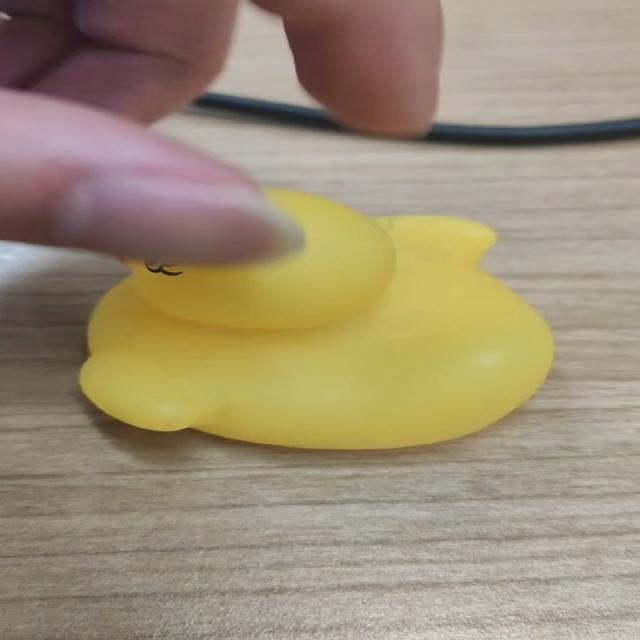rubber-duck: (79, 187, 551, 447)
